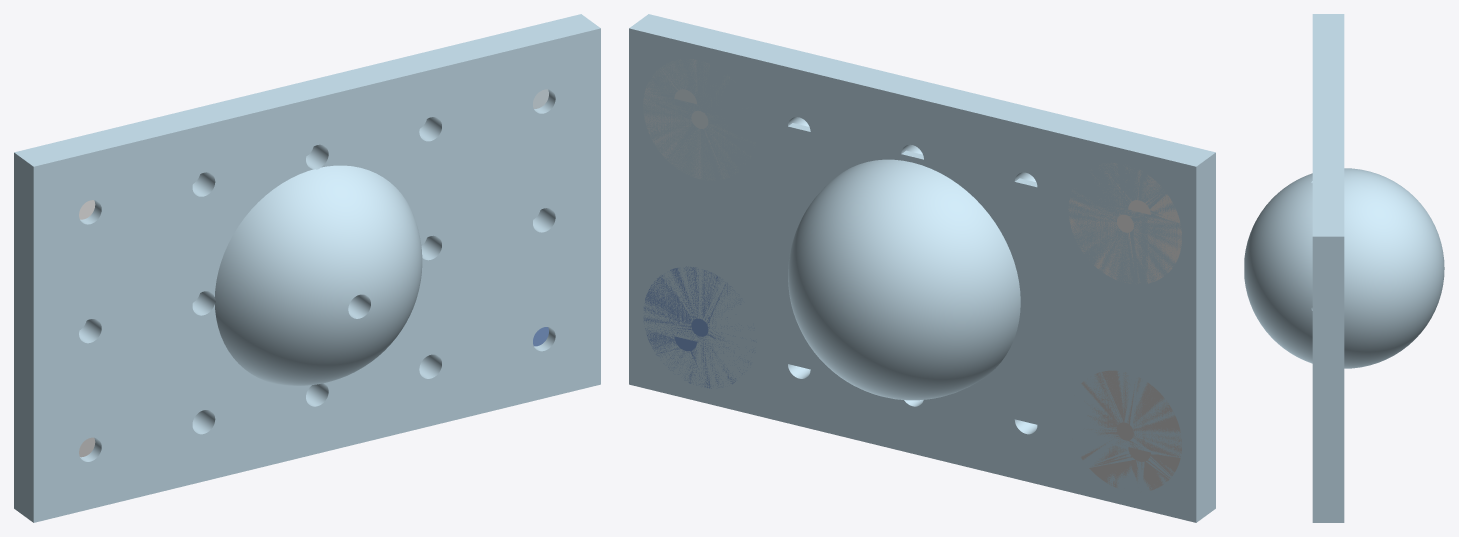
3 views of the same model, side by side, from view 1: azimuth 30°, elevation 25°; view 2: azimuth 150°, elevation 25°; view 3: azimuth 270°, elevation 25° (orthographic). The views are drawn at different scales.
Parts seen in each view (by area): view 1: Part 1; view 2: Part 1, Part 2, Part 4, Part 3, Part 5; view 3: Part 1.
Part boxes in pixels (x1,y1,x2,y2): Part 1: [14, 14, 600, 522]; Part 1: [629, 14, 1215, 522]; Part 2: [1081, 370, 1181, 490]; Part 4: [1068, 163, 1181, 283]; Part 3: [643, 266, 756, 388]; Part 5: [643, 59, 755, 180]; Part 1: [1244, 14, 1444, 522].
Bounding box in the file's own units: 0.2 × 0.12 × 0.076.
